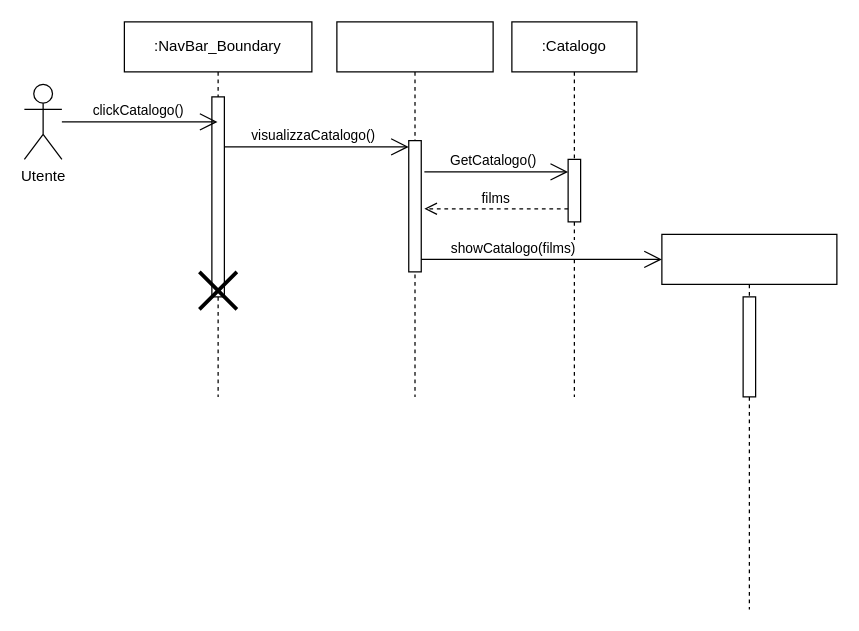
Some shapes in this 859 by 631 pixel diagram are drawn without their labels. The box of each missing label's shape, as (x1, y1, x2, y2) in pixels:
:Catalogo_Boundary: (661, 233, 837, 609)
:Catalogo_Control: (336, 21, 493, 397)
